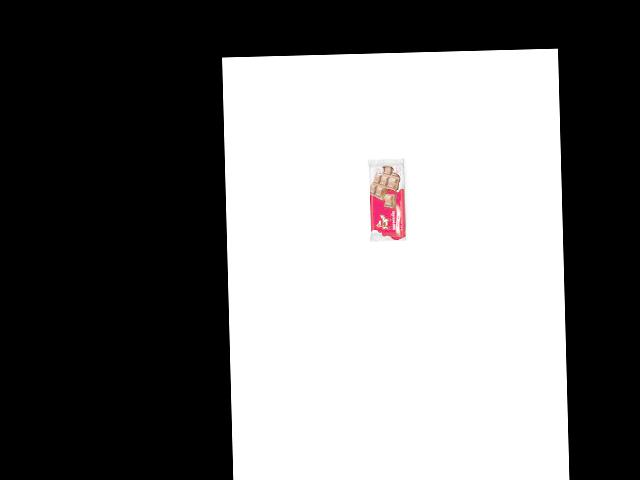chocolate: (367, 155, 406, 242)
